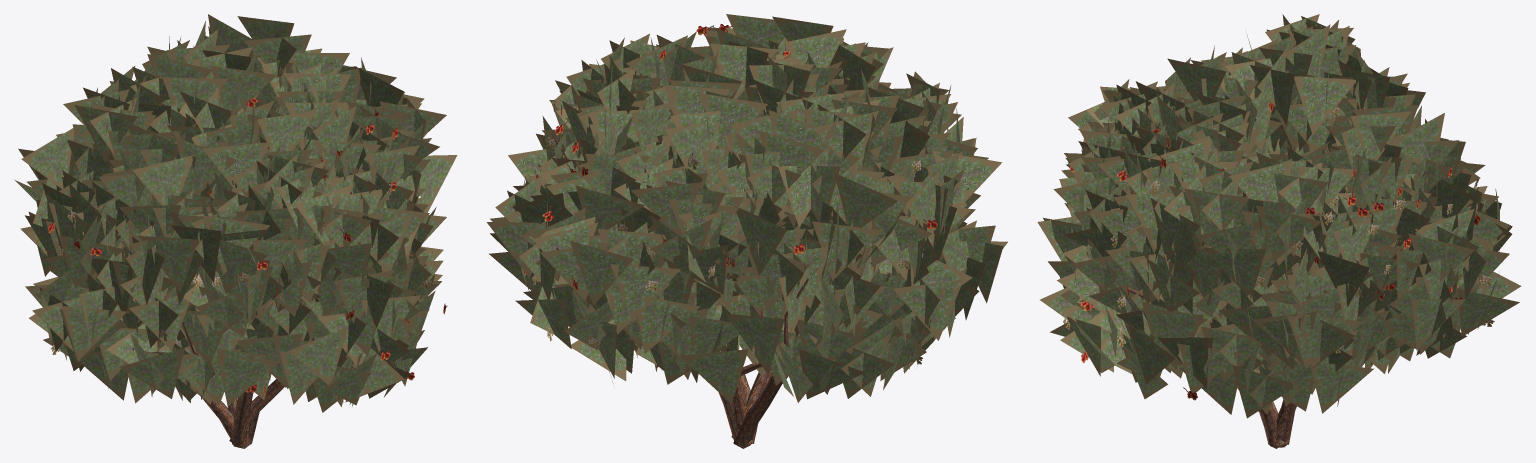
The model's file is Arbutus_Unedo_Autumn_Adult.glb.
The picture shows the model from 3 angles, left to right: view 1: azimuth 30°, elevation 25°; view 2: azimuth 150°, elevation 25°; view 3: azimuth 270°, elevation 25°; orthographic projection. The views are drawn at different scales.
Visible parts, largest first — view 1: Arbutus_Unedo_Autumn_Adult__LOD3; view 2: Arbutus_Unedo_Autumn_Adult__LOD3; view 3: Arbutus_Unedo_Autumn_Adult__LOD3.
Part boxes in pixels (bbox=[...]): Arbutus_Unedo_Autumn_Adult__LOD3: bbox=[15, 14, 457, 448]; Arbutus_Unedo_Autumn_Adult__LOD3: bbox=[486, 14, 1007, 448]; Arbutus_Unedo_Autumn_Adult__LOD3: bbox=[1037, 14, 1521, 448].
Size of the model in its own units: 8.44 by 7.65 by 8.63.
3 materials, 3 textured.
